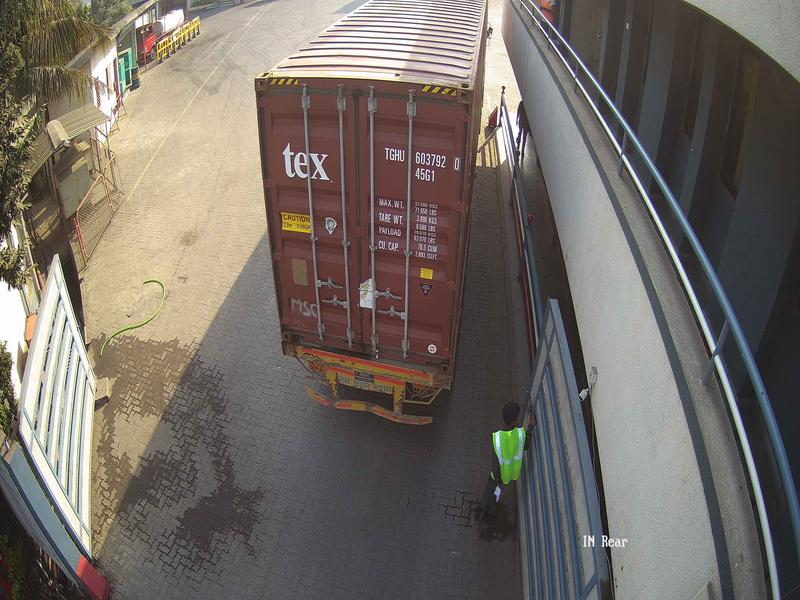container: (249, 76, 487, 381)
